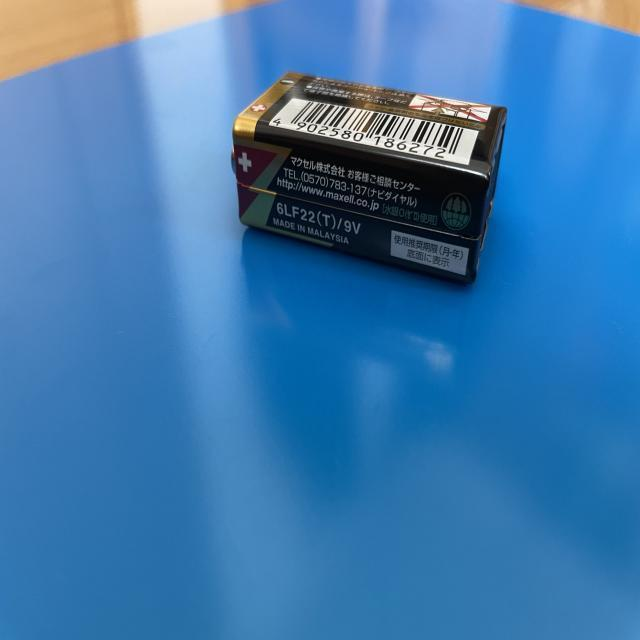9V: (230, 71, 509, 242), (236, 179, 489, 291)
